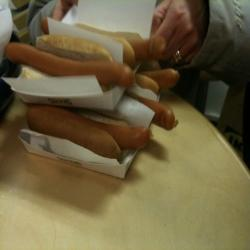hotdog: (22, 101, 157, 166), (6, 32, 130, 101), (55, 15, 172, 68), (116, 89, 188, 135), (128, 61, 187, 98)
